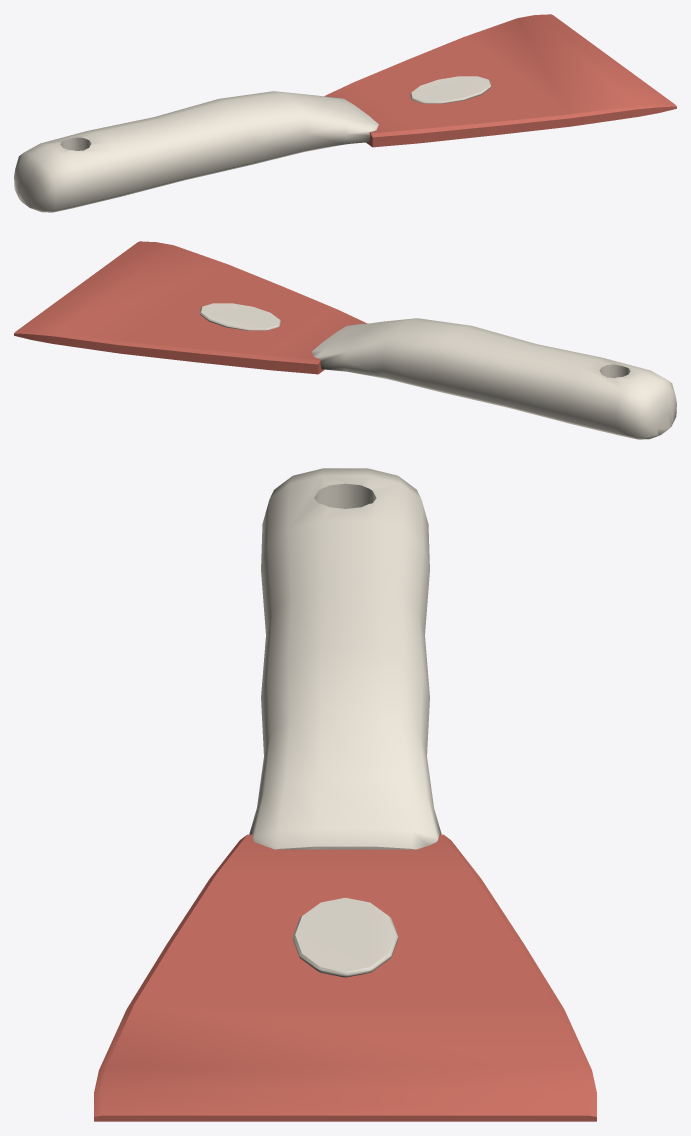
File: scraper_plastic.glb
3 views of the same model, one above another, from view 1: azimuth 30°, elevation 25°; view 2: azimuth 150°, elevation 25°; view 3: azimuth 270°, elevation 25° (orthographic). The views are drawn at different scales.
Parts seen in each view (by area): view 1: PART; view 2: PART; view 3: PART.
Boxes of the visible parts, x1,y1,x2,y2 form: PART: [14, 14, 676, 212]; PART: [14, 241, 676, 439]; PART: [94, 468, 596, 1121].
Bounding box in the file's own units: 0.27 × 0.0222 × 0.1.
